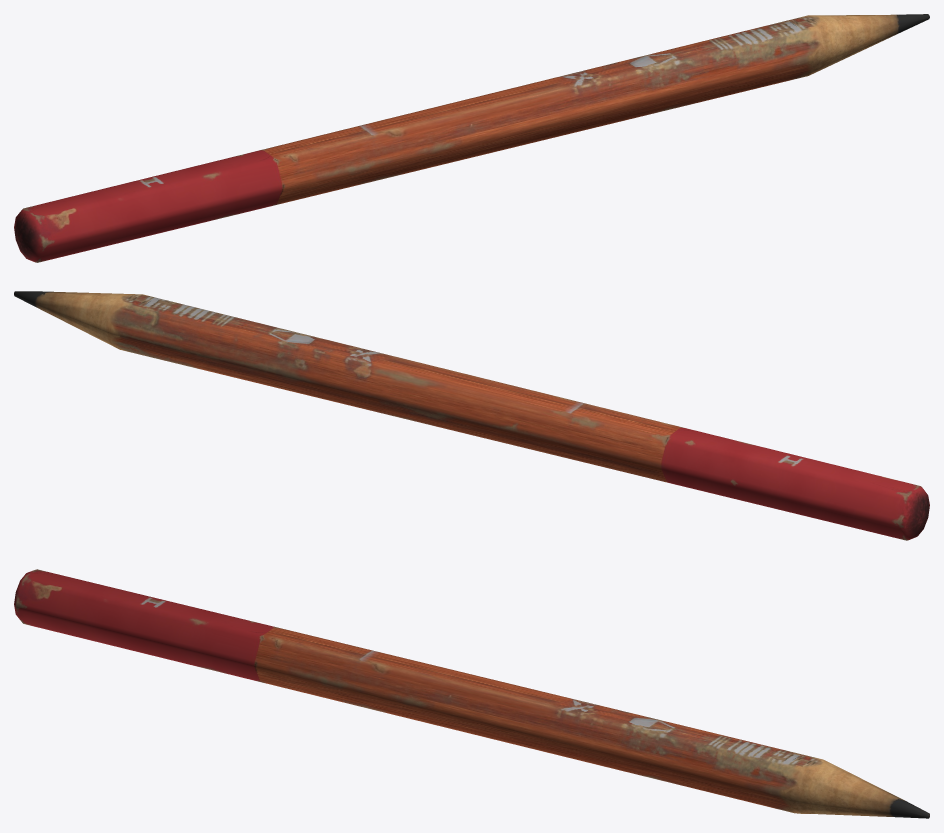
File: Pencil.fbx
3 renders of one model, top to bottom at view 1: azimuth 30°, elevation 25°; view 2: azimuth 150°, elevation 25°; view 3: azimuth 330°, elevation 25°, orthographic.
Visible parts, largest first — view 1: Pencil; view 2: Pencil; view 3: Pencil.
Part boxes in pixels (x1,y1,x2,y2): Pencil: (14, 14, 929, 262); Pencil: (14, 291, 929, 540); Pencil: (14, 569, 929, 818).
Size of the model in its own units: 14.71 by 0.7514 by 0.8263.
